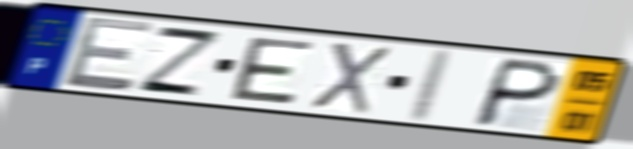E: (60, 14, 158, 94), (228, 34, 318, 107)
I: (401, 46, 458, 126)
P: (468, 55, 566, 130)
X: (306, 39, 393, 117)
Z: (132, 23, 227, 100)
